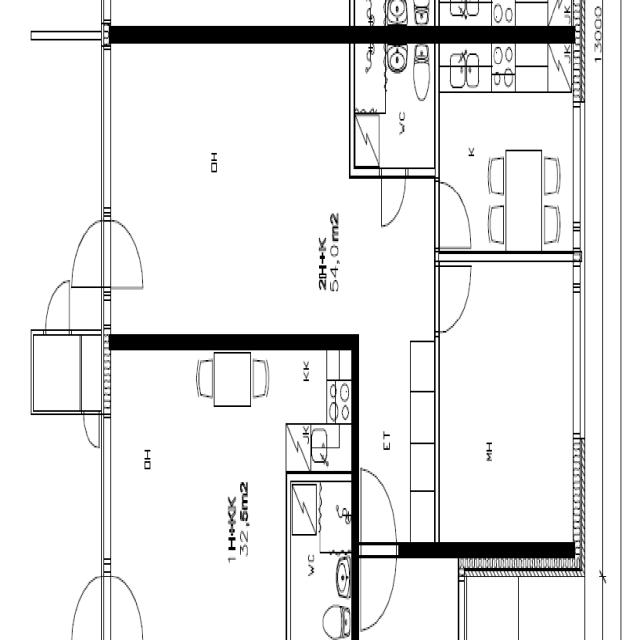door: (114, 38, 390, 344), (351, 37, 439, 178), (287, 471, 355, 640), (354, 462, 402, 636), (104, 209, 147, 295), (435, 254, 474, 334), (68, 568, 106, 640), (70, 214, 106, 290), (108, 567, 145, 639), (39, 271, 75, 337), (81, 406, 102, 451)
window: (565, 275, 592, 450), (94, 29, 118, 217), (570, 94, 590, 247), (99, 406, 112, 570)
zone: (105, 42, 366, 337), (108, 346, 344, 640), (437, 254, 582, 550), (437, 37, 579, 255), (0, 383, 105, 640), (288, 468, 355, 640), (435, 0, 583, 31), (34, 332, 85, 413), (433, 174, 476, 254), (377, 164, 408, 234), (81, 330, 104, 414)
